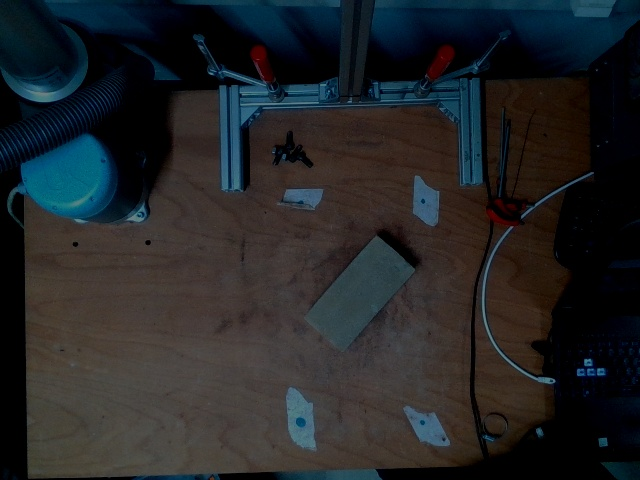brick: (305, 238, 412, 351)
